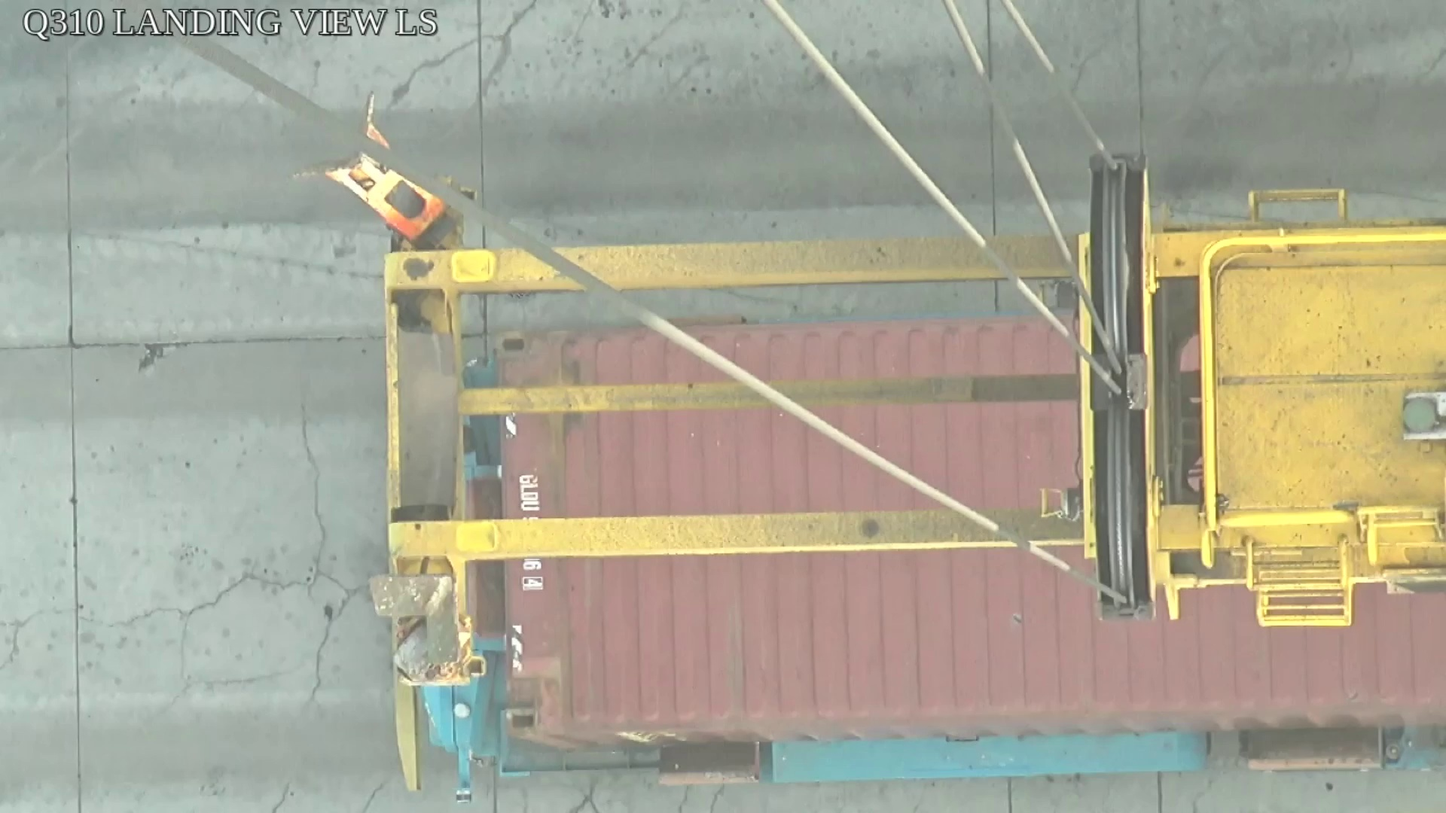aa: (1085, 148, 1164, 626)
